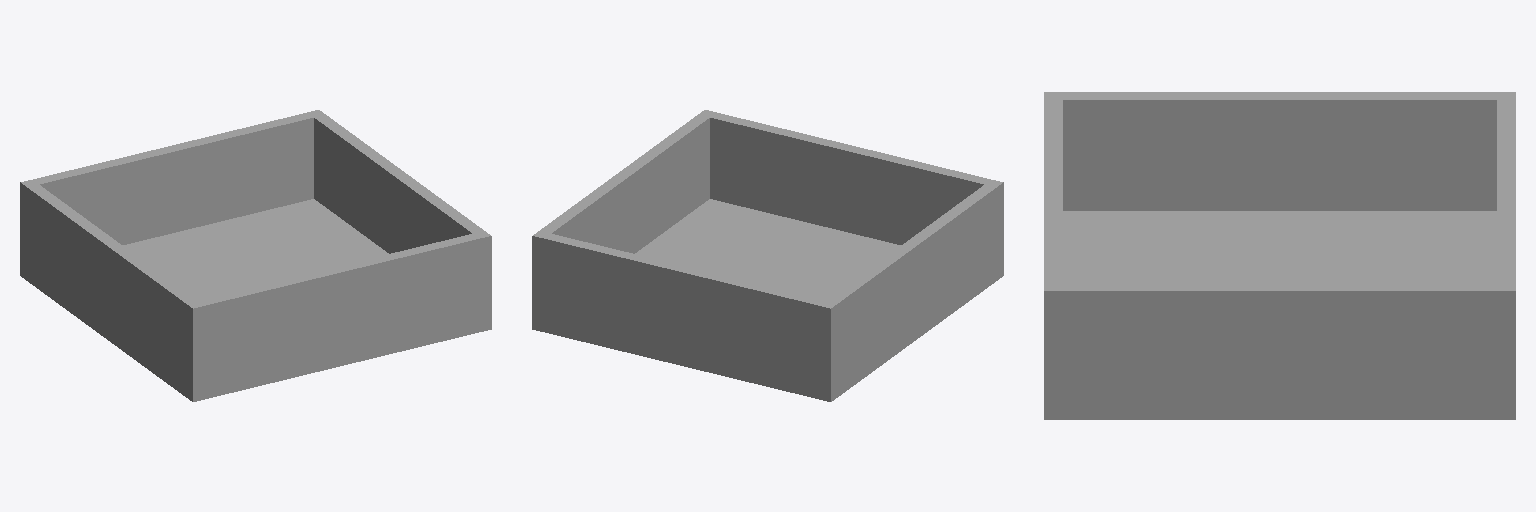
The robot description file, URDF, robot "table":
<?xml version="1.0" ?>
<!-- =================================================================================== -->
<!-- |    This document was autogenerated by xacro from box.urdf.xacro                 | -->
<!-- |    EDITING THIS FILE BY HAND IS NOT RECOMMENDED                                 | -->
<!-- =================================================================================== -->
<robot name="table">
  <material name="grey">
    <color rgba="0.7 0.7 0.7 1"/>
  </material>


<!--  <joint name="box_base_to_world" type="fixed">-->
<!--    <parent link="world"/>-->
<!--    <child link="box_base_link"/>-->
<!--    <origin rpy="0 0 0" xyz="0 0 0"/>-->
<!--  </joint>-->

  <link name="box_base_link"/>
    <contact>
      <friction_anchor/>
      <lateral_friction value="1.0"/>
      <rolling_friction value="0.0"/>
      <contact_cfm value="0.0"/>
      <contact_erp value="1.0"/>
      <restitution value="0.1"/>
    </contact>













<!--  <link name="world"/>-->
<!--  <joint name="box_base_to_world" type="fixed">-->
<!--    <parent link="world"/>-->
<!--    <child link="box_base_link"/>-->
<!--    <origin rpy="0 0 0" xyz="0 0 0"/>-->
<!--  </joint>-->
<!--  <link name="box_base_link">-->
<!--&lt;!&ndash;    <contact>&ndash;&gt;-->
<!--&lt;!&ndash;      <rolling_friction value="0.001"/>&ndash;&gt;-->
<!--&lt;!&ndash;      <spinning_friction value="0.001"/>&ndash;&gt;-->
<!--&lt;!&ndash;      <restitution value="0.9"/>&ndash;&gt;-->
<!--&lt;!&ndash;    </contact>&ndash;&gt;-->
<!--&lt;!&ndash;    <inertial>&ndash;&gt;-->
<!--&lt;!&ndash;      <origin rpy="0 0 0" xyz="0 0 0"/>&ndash;&gt;-->
<!--&lt;!&ndash;      &lt;!&ndash;        <mass value="${4.1888 * radius * radius * radius * 90}"/>&ndash;&gt;&ndash;&gt;-->
<!--&lt;!&ndash;      <mass value="10"/>&ndash;&gt;-->
<!--&lt;!&ndash;      <inertia ixx="1" ixy="0" ixz="0" iyy="1" iyz="0" izz="1"/>&ndash;&gt;-->
<!--&lt;!&ndash;    </inertial>&ndash;&gt;-->
<!--  </link>-->
  <joint name="base_to_bottom" type="fixed">
    <parent link="box_base_link"/>
    <origin xyz="0 0 0.02"/>
    <child link="box_bottom_link"/>
  </joint>
  <link name="box_bottom_link">
    <inertial>
      <mass value="10.0"/>
      <origin xyz="0 0 -0.01"/>
      <inertia ixx="1" ixy="0" ixz="0" iyy="1" iyz="0" izz="1"/>
    </inertial>
    <visual>
      <origin xyz="0 0 -0.01"/>
      <geometry>
        <box size="0.46 0.46 0.02"/>
      </geometry>
      <material name="grey"/>
    </visual>
    <collision>
      <origin xyz="0 0 -0.01"/>
      <geometry>
        <box size="0.46 0.46 0.02"/>
      </geometry>
    </collision>
  </link>
  <joint name="box_wall1_joint" type="fixed">
    <parent link="box_base_link"/>
    <origin rpy="0 0 0" xyz="0.25 0 0.075"/>
    <child link="box_wall1_link"/>
  </joint>
  <link name="box_wall1_link">
    <inertial>
      <mass value="1.0"/>
      <origin xyz="0 0 -0.01"/>
      <inertia ixx="0.1" ixy="0" ixz="0" iyy="0.1" iyz="0" izz="0.01"/>
    </inertial>
    <visual>
      <origin xyz="-0.01 0 0"/>
      <geometry>
        <box size="0.02 0.5 0.15"/>
      </geometry>
      <material name="grey"/>
    </visual>
    <collision>
      <origin xyz="-0.01  0 0"/>
      <geometry>
        <box size="0.02 0.5 0.15"/>
      </geometry>
    </collision>
  </link>
  <joint name="box_wall3_joint" type="fixed">
    <parent link="box_base_link"/>
    <origin rpy="0 0 0" xyz="-0.25 0 0.075"/>
    <child link="box_wall3_link"/>
  </joint>
  <link name="box_wall3_link">
    <inertial>
      <mass value="1.0"/>
      <origin xyz="0 0 0.01"/>
      <inertia ixx="0.1" ixy="0" ixz="0" iyy="0.1" iyz="0" izz="0.01"/>
    </inertial>
    <visual>
      <origin xyz="0.01 0 0"/>
      <geometry>
        <box size="0.02 0.5 0.15"/>
      </geometry>
      <material name="grey"/>
    </visual>
    <collision>
      <origin xyz="0.01 0 0"/>
      <geometry>
        <box size="0.02 0.5 0.15"/>
      </geometry>
    </collision>
  </link>
  <joint name="box_wall2_joint" type="fixed">
    <parent link="box_base_link"/>
    <origin rpy="0 0 0" xyz="0 0.25 0.075"/>
    <child link="box_wall2_link"/>
  </joint>
  <link name="box_wall2_link">
    <inertial>
      <mass value="1.0"/>
      <origin xyz="0 0 -0.01"/>
      <inertia ixx="0.1" ixy="0" ixz="0" iyy="0.1" iyz="0" izz="0.01"/>
    </inertial>
    <visual>
      <origin xyz="0 -0.01 0"/>
      <geometry>
        <box size="0.46 0.02 0.15"/>
      </geometry>
      <material name="grey"/>
    </visual>
    <collision>
      <origin xyz="-0.01  0 0"/>
      <geometry>
        <box size="0.46 0.02 0.15"/>
      </geometry>
    </collision>
  </link>
  <joint name="box_wall4_joint" type="fixed">
    <parent link="box_base_link"/>
    <origin rpy="0 0 0" xyz="0 -0.25 0.075"/>
    <child link="box_wall4_link"/>
  </joint>
  <link name="box_wall4_link">
    <inertial>
      <mass value="1.0"/>
      <origin xyz="0 0 0.01"/>
      <inertia ixx="0.1" ixy="0" ixz="0" iyy="0.1" iyz="0" izz="0.01"/>
    </inertial>
    <visual>
      <origin xyz="0 0.01 0"/>
      <geometry>
        <box size="0.46 0.02 0.15"/>
      </geometry>
      <material name="grey"/>
    </visual>
    <collision>
      <origin xyz="0.01  0 0"/>
      <geometry>
        <box size="0.46 0.02 0.15"/>
      </geometry>
    </collision>
  </link>
</robot>

--- Render facts (derived) ---
3 views of the same robot in one strip: view 1: azimuth 30°, elevation 25°; view 2: azimuth 150°, elevation 25°; view 3: azimuth 270°, elevation 25° (orthographic).
Model table with 6 links and 5 joints (5 fixed), rooted at box_base_link, posed all joints at 0.
Visible links, largest first — view 1: box_wall4_link, box_wall2_link, box_wall3_link, box_bottom_link, box_wall1_link; view 2: box_wall2_link, box_wall4_link, box_wall3_link, box_bottom_link, box_wall1_link; view 3: box_wall1_link, box_wall3_link, box_bottom_link, box_wall2_link, box_wall4_link.
Link boxes in pixels (box(x1,y1,x2,y2)): box_wall4_link: box(199, 234, 479, 398); box_wall2_link: box(33, 113, 313, 244); box_wall3_link: box(20, 180, 204, 401); box_bottom_link: box(123, 199, 388, 300); box_wall1_link: box(307, 110, 491, 331); box_wall2_link: box(544, 234, 824, 398); box_wall4_link: box(710, 113, 990, 244); box_wall3_link: box(819, 180, 1003, 401); box_bottom_link: box(635, 199, 900, 300); box_wall1_link: box(532, 110, 716, 331); box_wall1_link: box(1044, 284, 1515, 419); box_wall3_link: box(1044, 92, 1515, 210); box_bottom_link: box(1063, 211, 1496, 283); box_wall2_link: box(1497, 100, 1515, 283); box_wall4_link: box(1044, 100, 1062, 283).
Bounding box of the posed robot: 0.5 × 0.5 × 0.15 m (x, y, z).
Geometry: primitives only (box / cylinder / sphere), no mesh files.